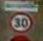limite 30: (7, 10, 33, 33)
